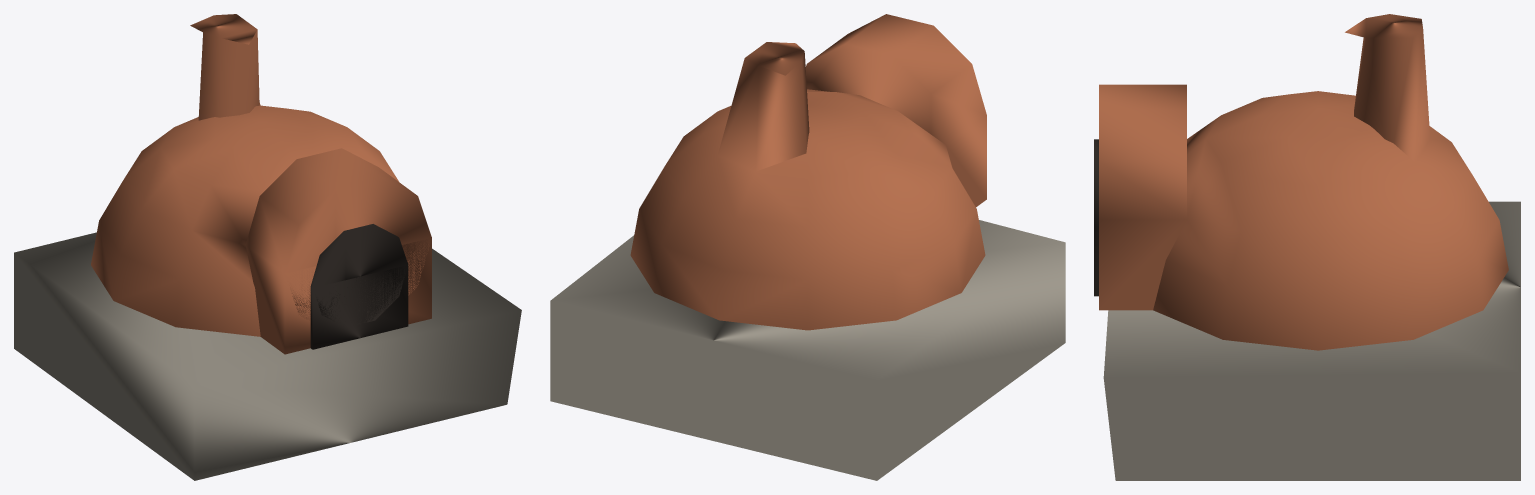
File: oven_lod1.glb
The picture shows the model from 3 angles, left to right: view 1: azimuth 30°, elevation 25°; view 2: azimuth 150°, elevation 25°; view 3: azimuth 270°, elevation 25°; orthographic projection. The views are drawn at different scales.
Bounding box in the file's own units: 1.75 × 1.7 × 1.79.
